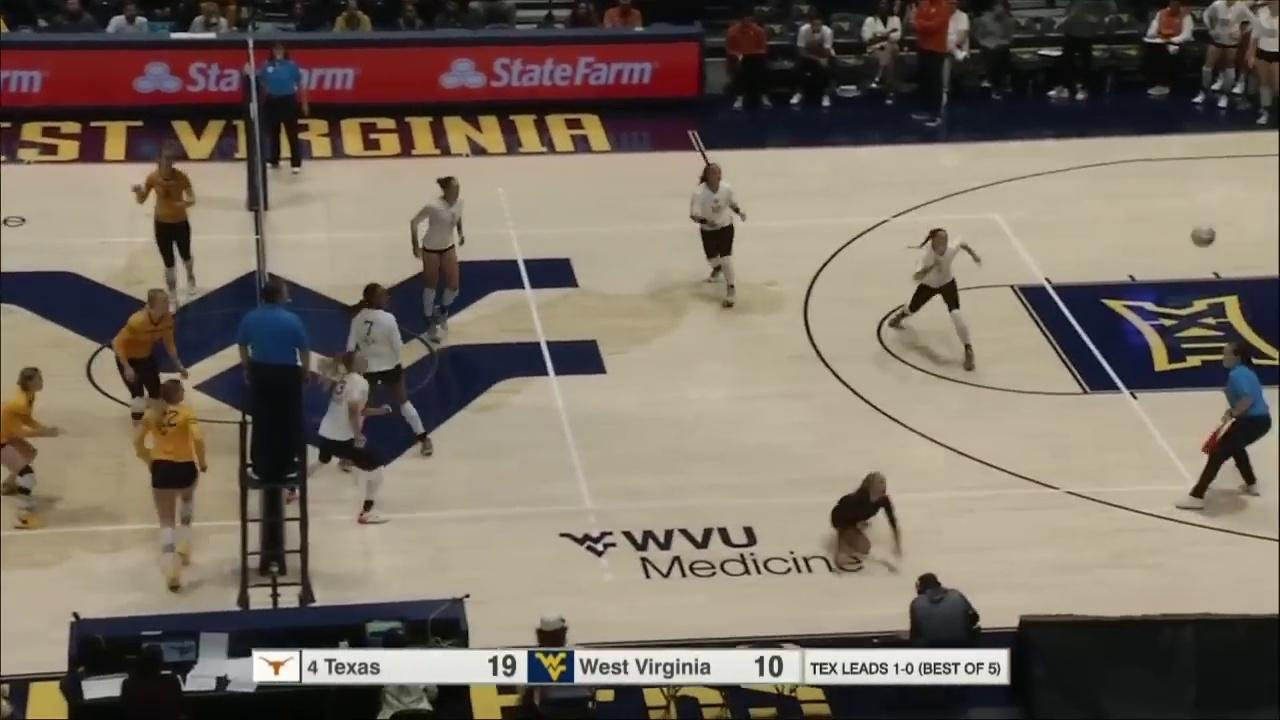player: (339, 283, 436, 471), (290, 353, 392, 526), (135, 378, 204, 592), (887, 227, 984, 371), (113, 289, 180, 448), (133, 153, 201, 300), (0, 365, 62, 526), (409, 175, 468, 333), (688, 164, 750, 307), (829, 470, 906, 572)
refree: (1174, 341, 1273, 508), (234, 280, 311, 477), (255, 41, 306, 174)
